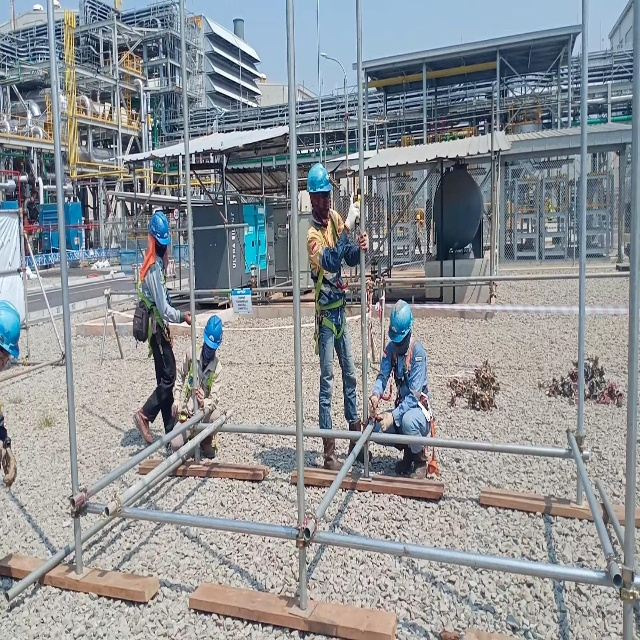Arnes_seguridad: (389, 335, 441, 481), (312, 260, 348, 350), (139, 275, 175, 355), (181, 353, 218, 427)
